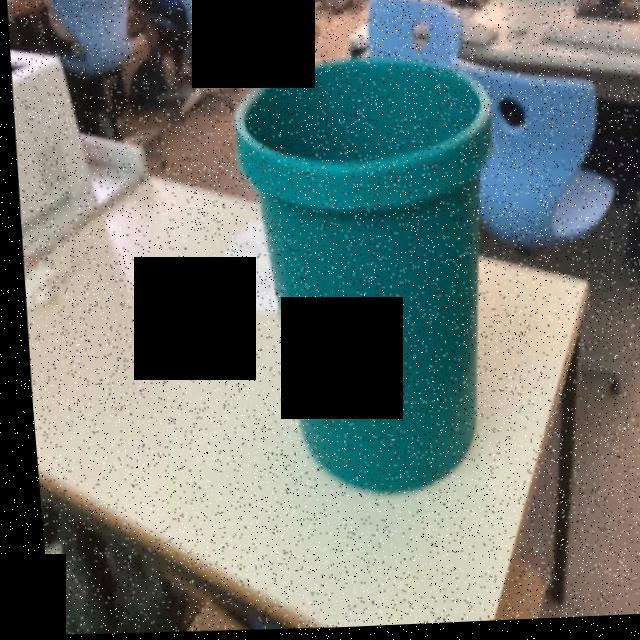bin: (209, 33, 523, 524)
